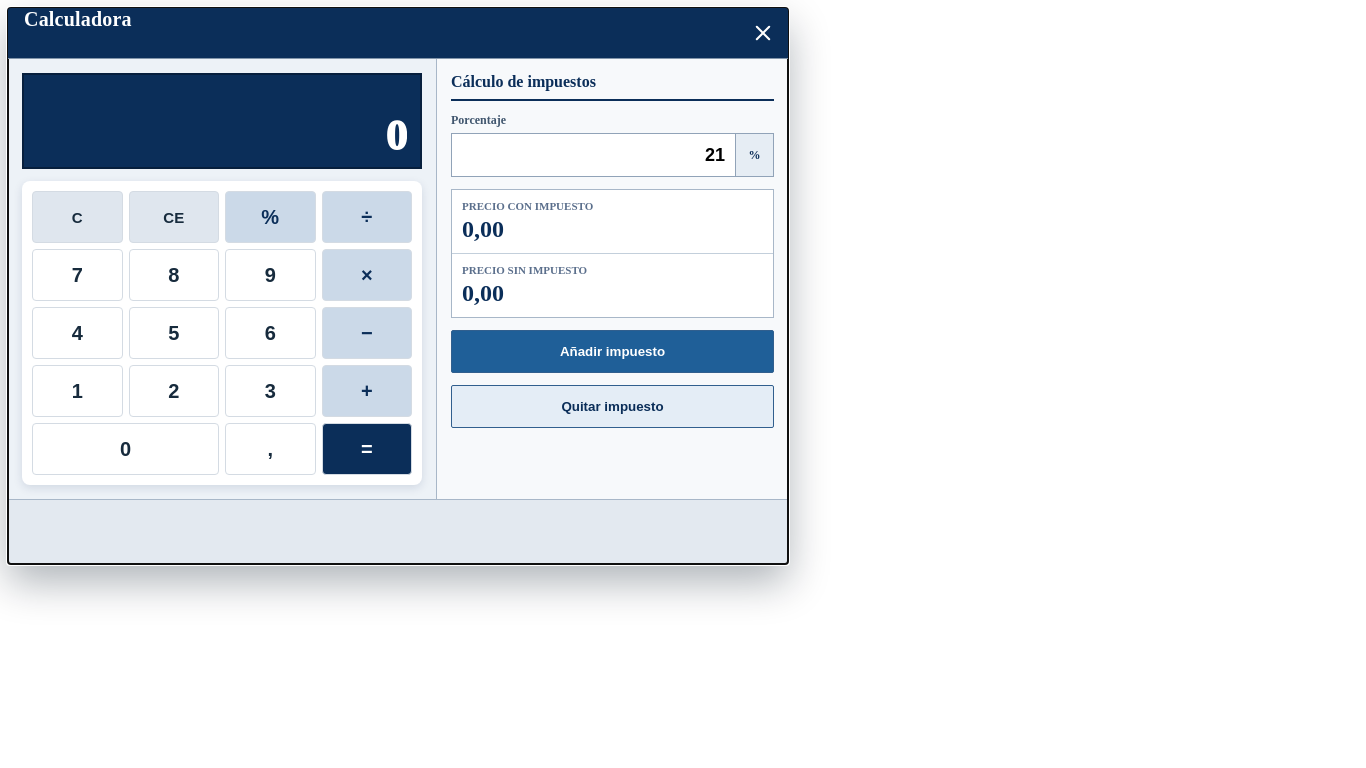
Scenario: SaleCalculatorDialog interaction › adds and removes the configured tax from the current display
The width and height of the screenshot is (1366, 768).
Press 1 in the dialog, box left=8, top=8, right=788, bottom=564
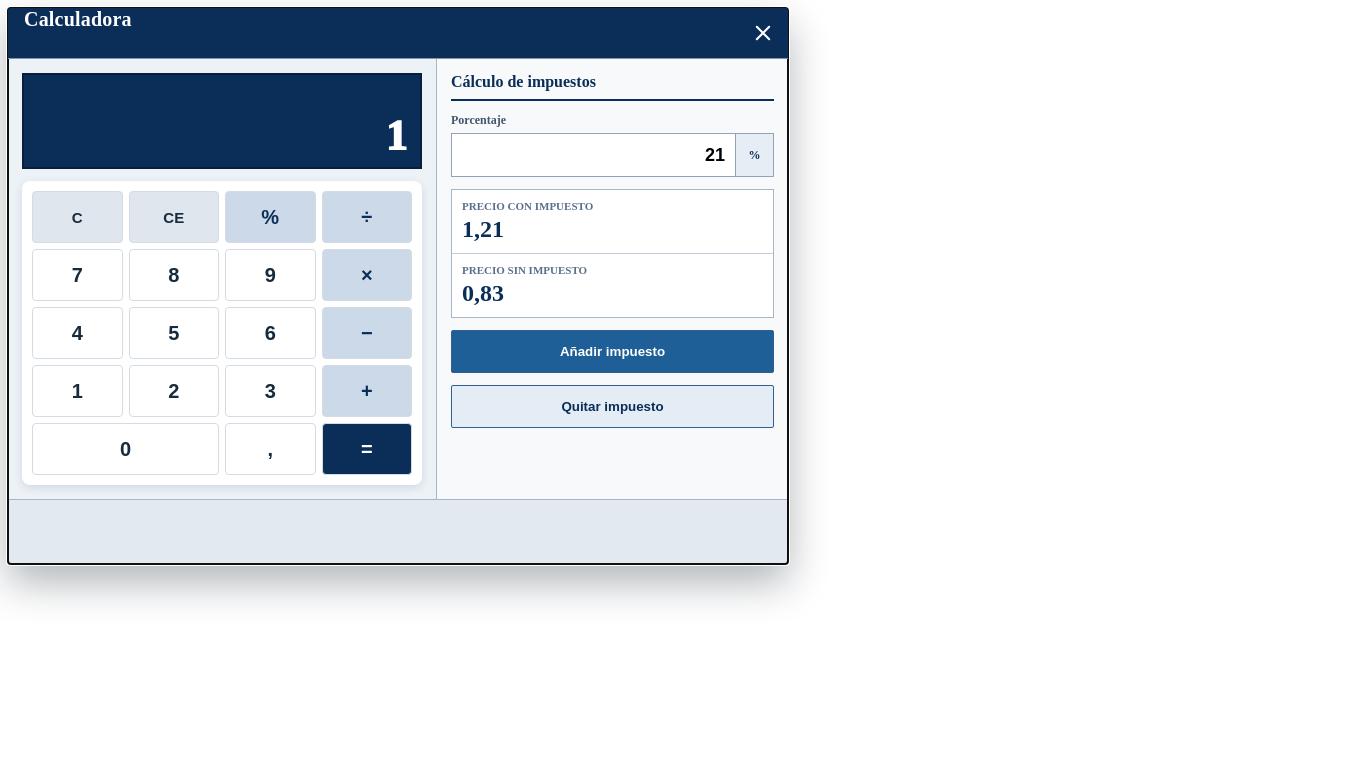
Press 0 in the dialog, box left=8, top=8, right=788, bottom=564
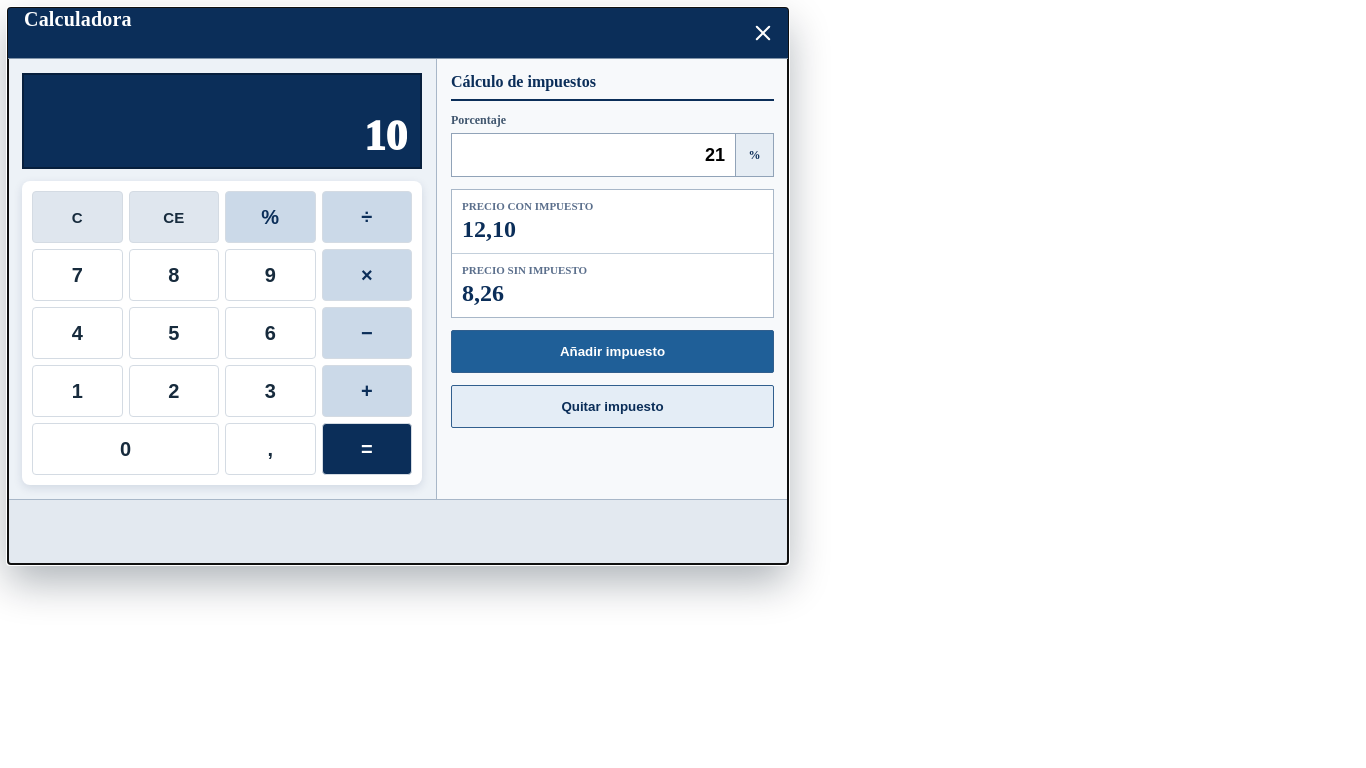
Press 0 in the dialog, box left=8, top=8, right=788, bottom=564
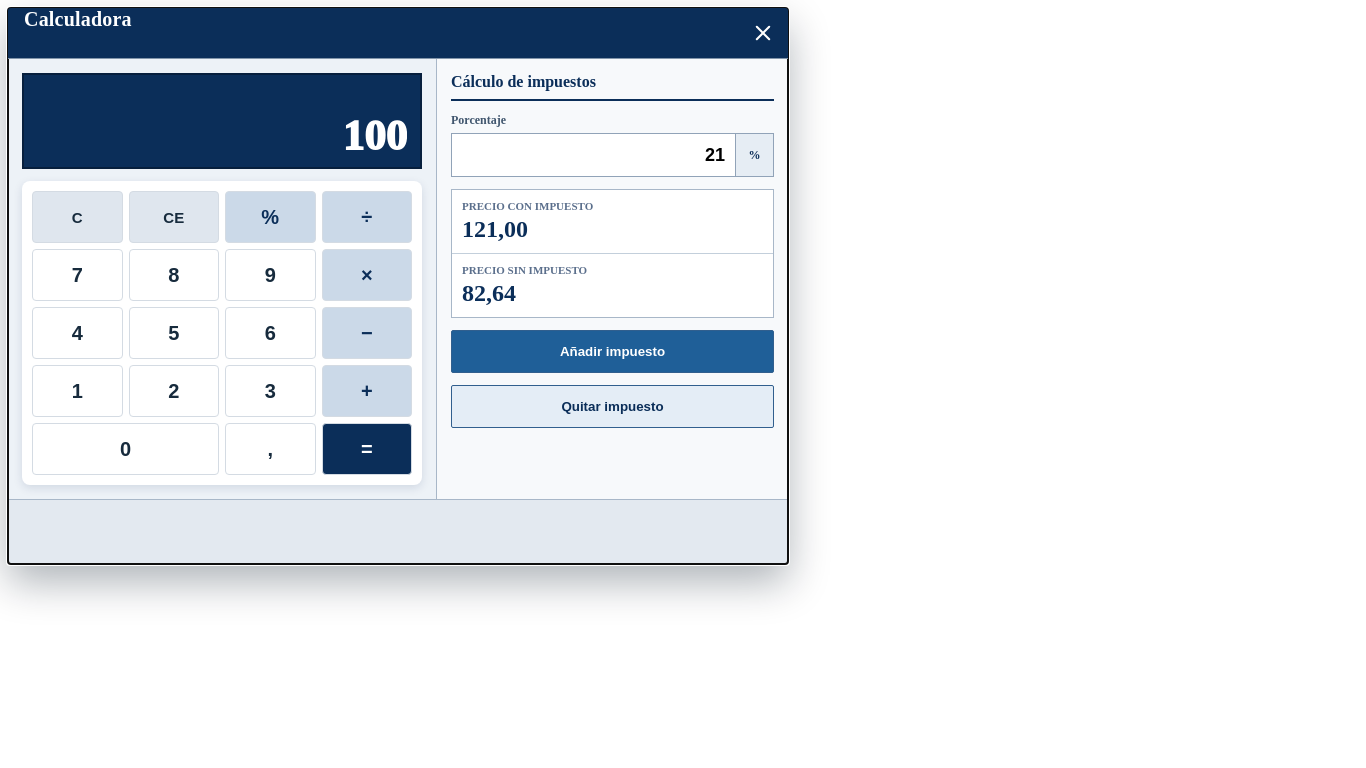
Check: the text "121,00" is shown, box left=462, top=216, right=528, bottom=242
Check: the text "82,64" is shown, box left=462, top=280, right=516, bottom=306
Click the button "Añadir impuesto" at (612, 352), box left=451, top=330, right=774, bottom=373
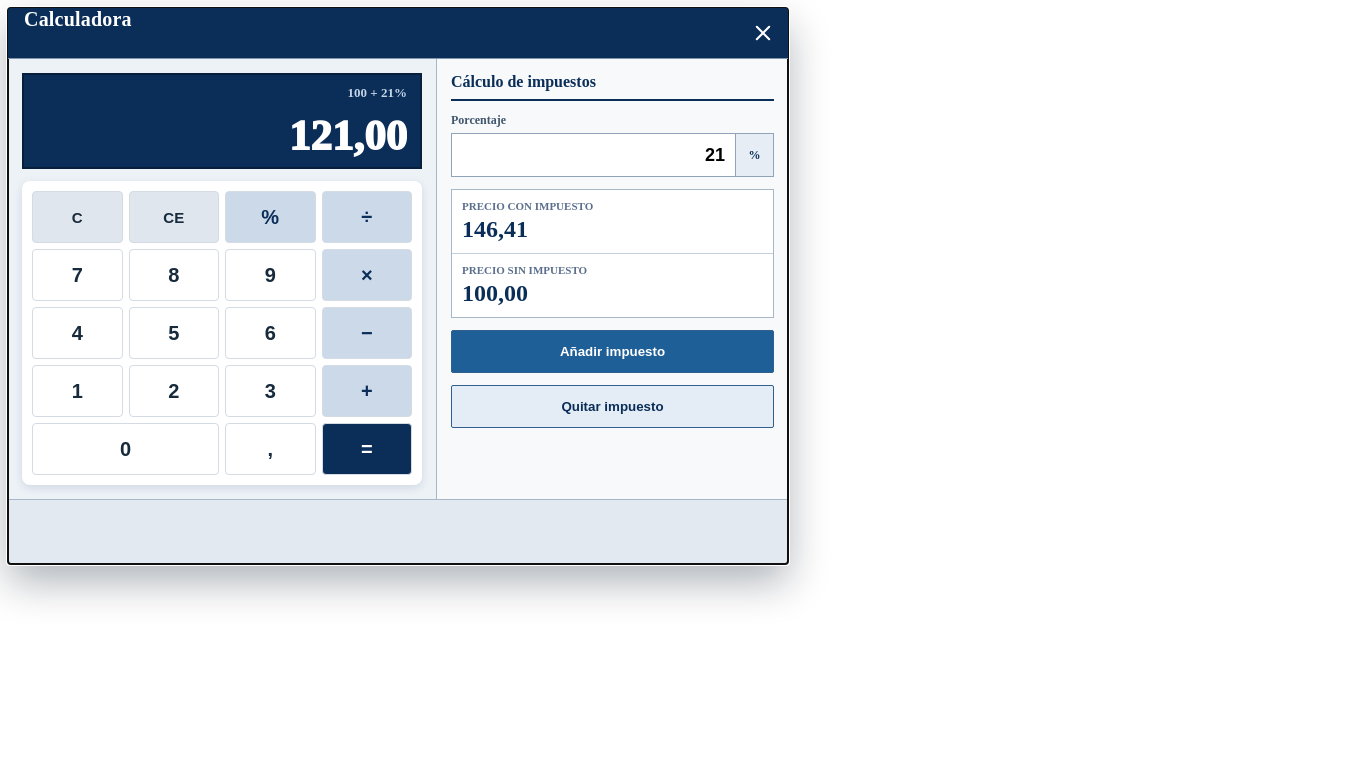
Check: the text "121,00" is shown, box left=289, top=114, right=407, bottom=157
